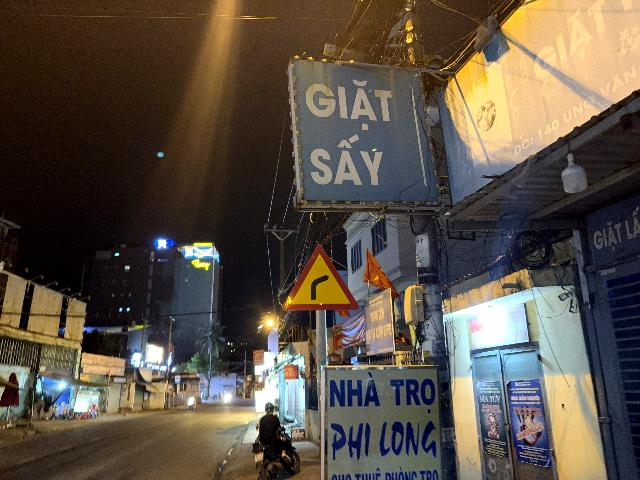cho-ngoat-nguy-hiem-ben-phai: (283, 243, 359, 311)
